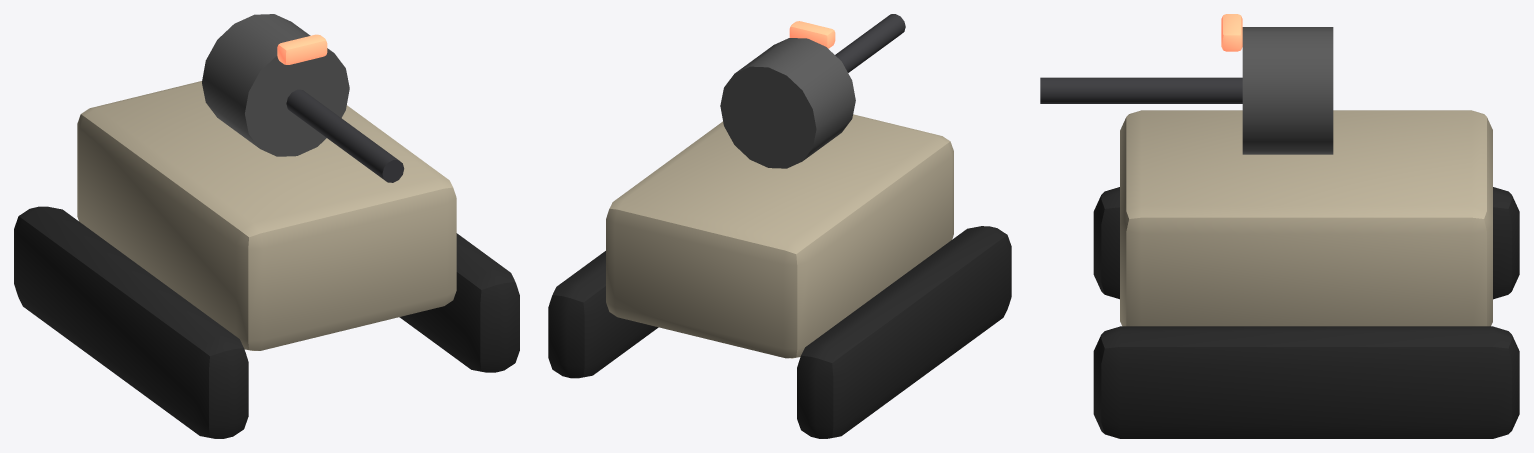
File: patroller.glb
3 renders of one model, left to right at view 1: azimuth 30°, elevation 25°; view 2: azimuth 150°, elevation 25°; view 3: azimuth 270°, elevation 25°, orthographic. The views are drawn at different scales.
Parts seen in each view (by area): view 1: Body; view 2: Body; view 3: Body.
Part boxes in pixels (x1,y1,x2,y2): Body: (14,14,519,438); Body: (548,14,1011,438); Body: (1040,14,1519,438).
Size of the model in its own units: 0.74 by 0.71 by 0.9.
